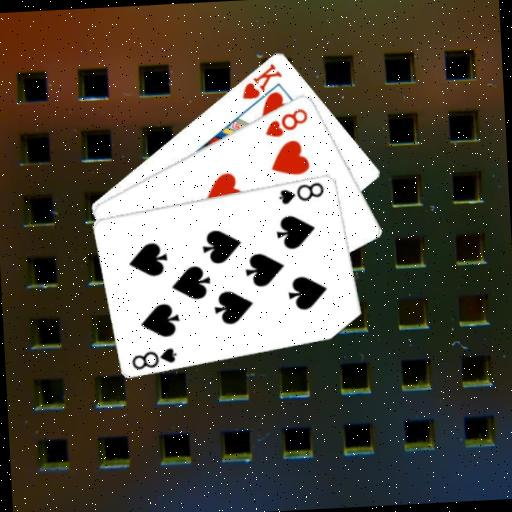8H: (260, 105, 311, 140)
8S: (275, 178, 327, 206), (128, 344, 179, 372)
KH: (237, 59, 285, 101)
